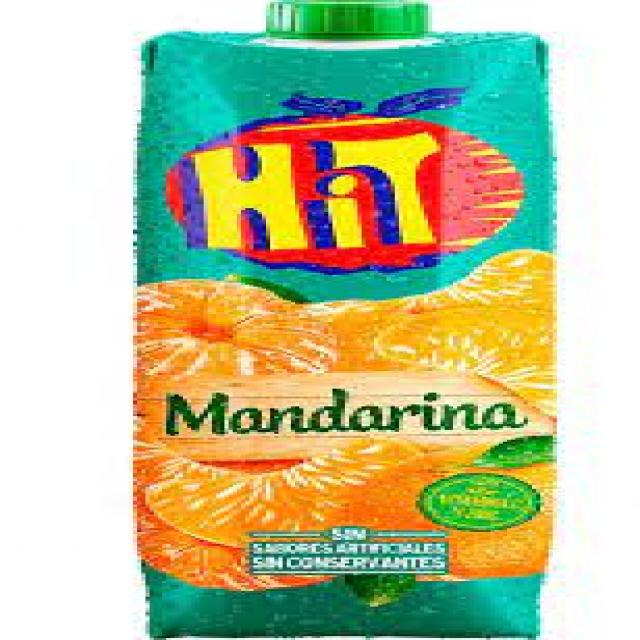Carton: (146, 0, 555, 638)
